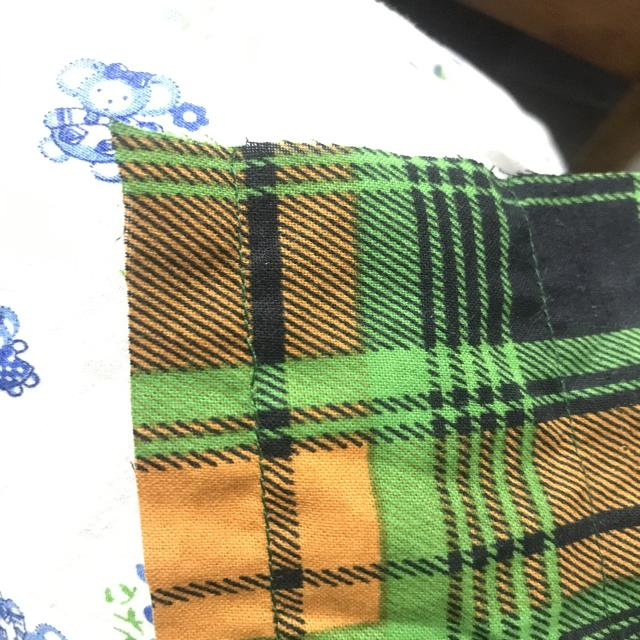good: (244, 448, 276, 545)
skip: (227, 332, 268, 390)
